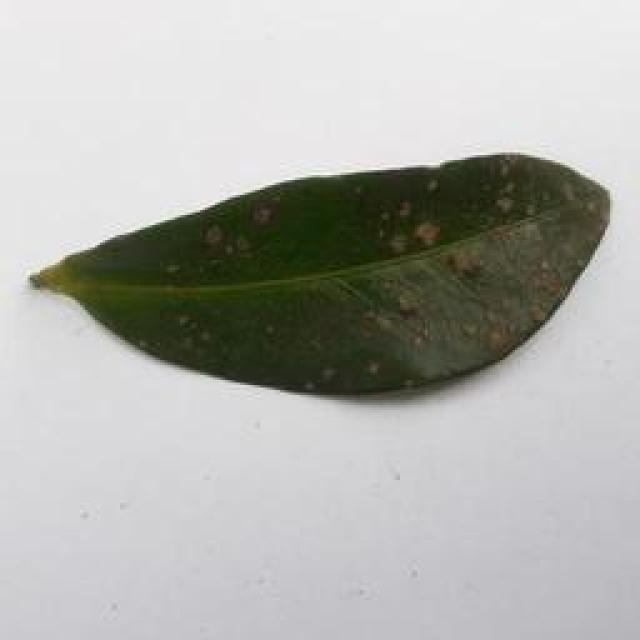Algal Leaf Spot: (26, 154, 621, 412)
